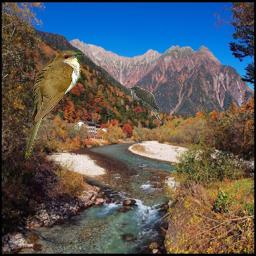Cuckoo: (24, 50, 83, 159), (128, 86, 162, 125)
